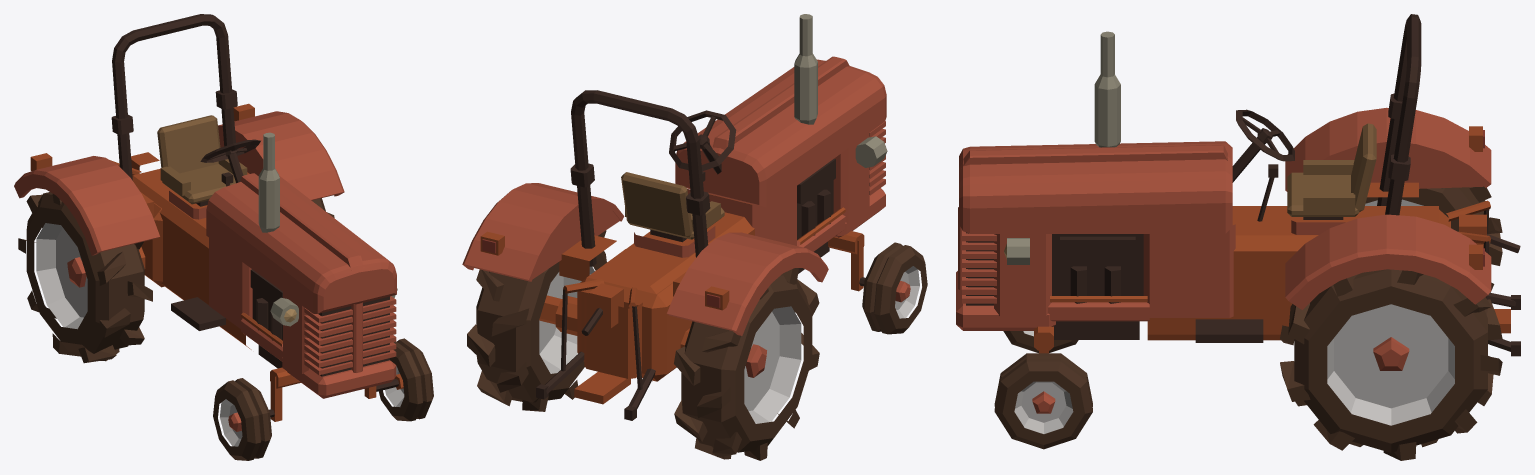
Rendered from compact-tractor-35b84b.glb.
3 views of the same model, side by side, from view 1: azimuth 30°, elevation 25°; view 2: azimuth 150°, elevation 25°; view 3: azimuth 270°, elevation 25° (orthographic). The views are drawn at different scales.
Visible parts, largest first — view 1: body, wheel-rr-mesh, wheel-fr-mesh, wheel-fl-mesh; view 2: body, wheel-rr-mesh, wheel-rl-mesh, wheel-fr-mesh; view 3: body, wheel-rl-mesh, wheel-fl-mesh, wheel-rr-mesh, wheel-fr-mesh.
Boxes of the visible parts, left/top/right/bottom form: body: left=14, top=14, right=398, bottom=421; wheel-rr-mesh: left=18, top=192, right=152, bottom=363; wheel-fr-mesh: left=213, top=378, right=271, bottom=460; wheel-fl-mesh: left=378, top=338, right=433, bottom=421; body: left=462, top=14, right=887, bottom=420; wheel-rr-mesh: left=674, top=268, right=819, bottom=460; wheel-rl-mesh: left=467, top=230, right=607, bottom=411; wheel-fr-mesh: left=862, top=242, right=927, bottom=334; body: left=956, top=14, right=1520, bottom=356; wheel-rl-mesh: left=1280, top=269, right=1502, bottom=460; wheel-fl-mesh: left=994, top=353, right=1092, bottom=449; wheel-rr-mesh: left=1365, top=186, right=1502, bottom=292; wheel-fr-mesh: left=1003, top=331, right=1078, bottom=352.
Size of the model in its own units: 1.71 by 2 by 2.83.
